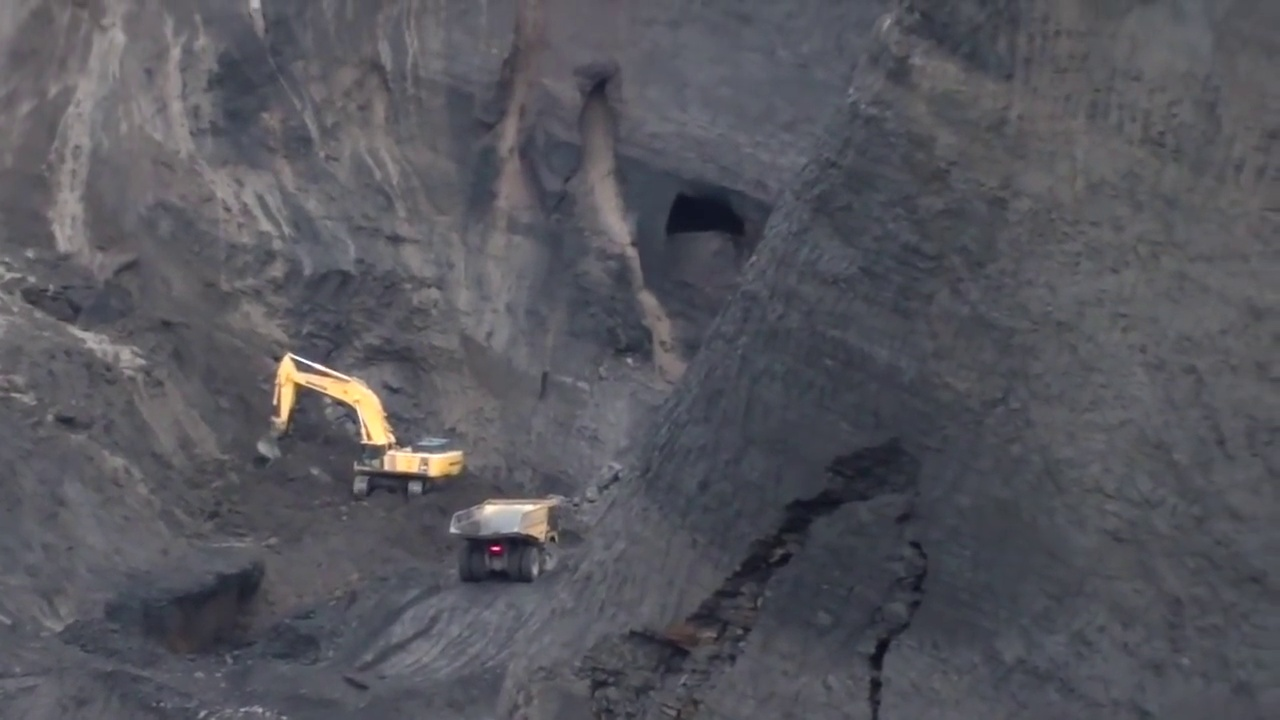dumper: (446, 498, 561, 583)
excavator: (250, 350, 468, 498)
